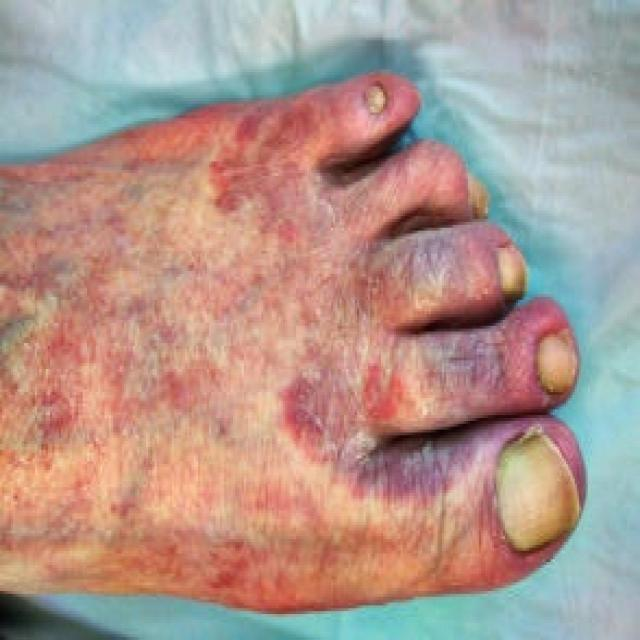Tinea Ringworm Candidiasis and other Fungal Infections: (146, 101, 529, 573)
